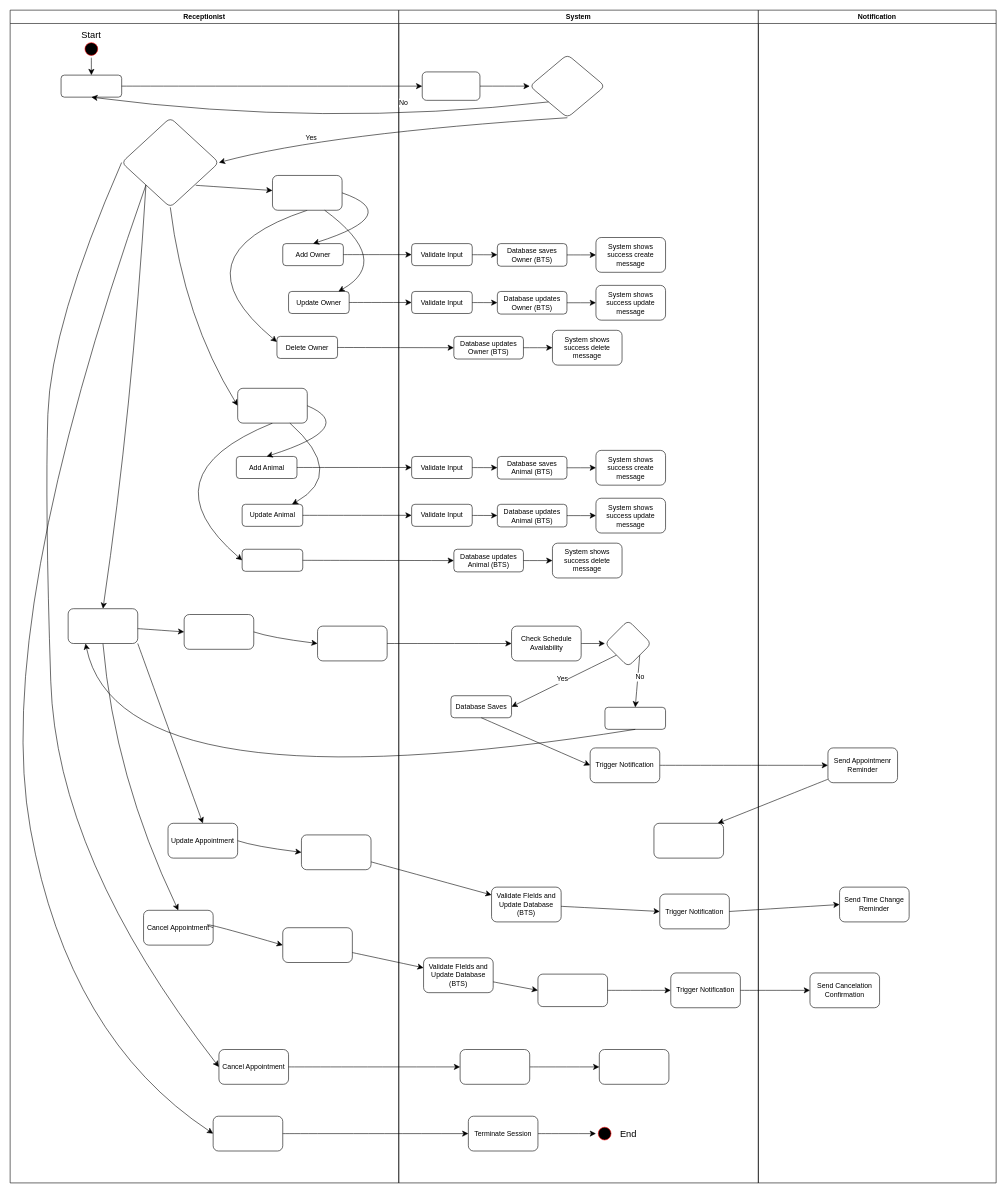
This 1006x1193 diagram has some shape labels left out. The shapes that lost their labels are listed below. From the top down, each one's centre as x and y in pixels, then its label:
At (x=91, y=86): "Login".
At (x=451, y=85): "Verify Credentials".
At (x=567, y=86): "Are Credentials Correct?".
At (x=170, y=162): "Choose Task: Manage Owner / Animals / Appointments / Reports".
At (x=307, y=192): "Manage Owner".
At (x=272, y=405): "Manage Animals".
At (x=272, y=560): "Delete Animal".
At (x=103, y=626): "Manage Appointments".
At (x=219, y=631): "Create Appointment".
At (x=352, y=643): "Select Owner, Animal Veterinarian".
At (x=627, y=643): "Slot Free?".
At (x=635, y=718): "Show Error".
At (x=336, y=852): "Edit fields".
At (x=688, y=840): "Display Confirmation Message".
At (x=317, y=945): "Select and Confirm".
At (x=572, y=990): "Database updates statis to cancelled (BTS)".
At (x=495, y=1066): "Fetch data from database / view".
At (x=634, y=1066): "Display Reports".
At (x=248, y=1133): "Logout".
